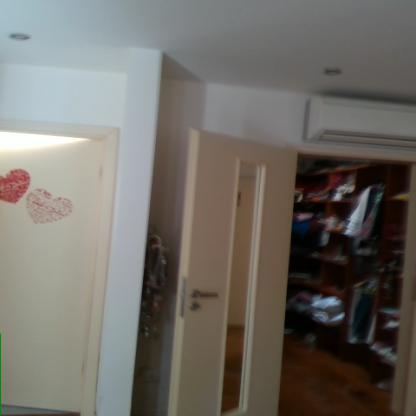closed: (0, 106, 127, 416)
open: (207, 120, 415, 408)
